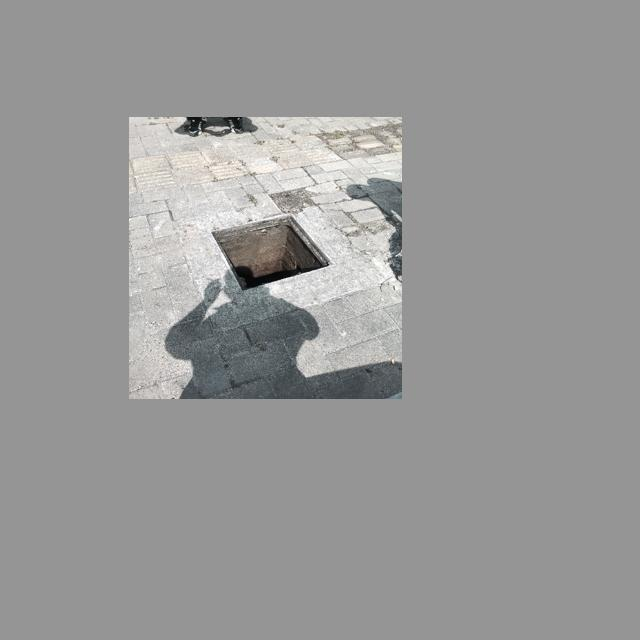lose: (210, 211, 339, 293)
